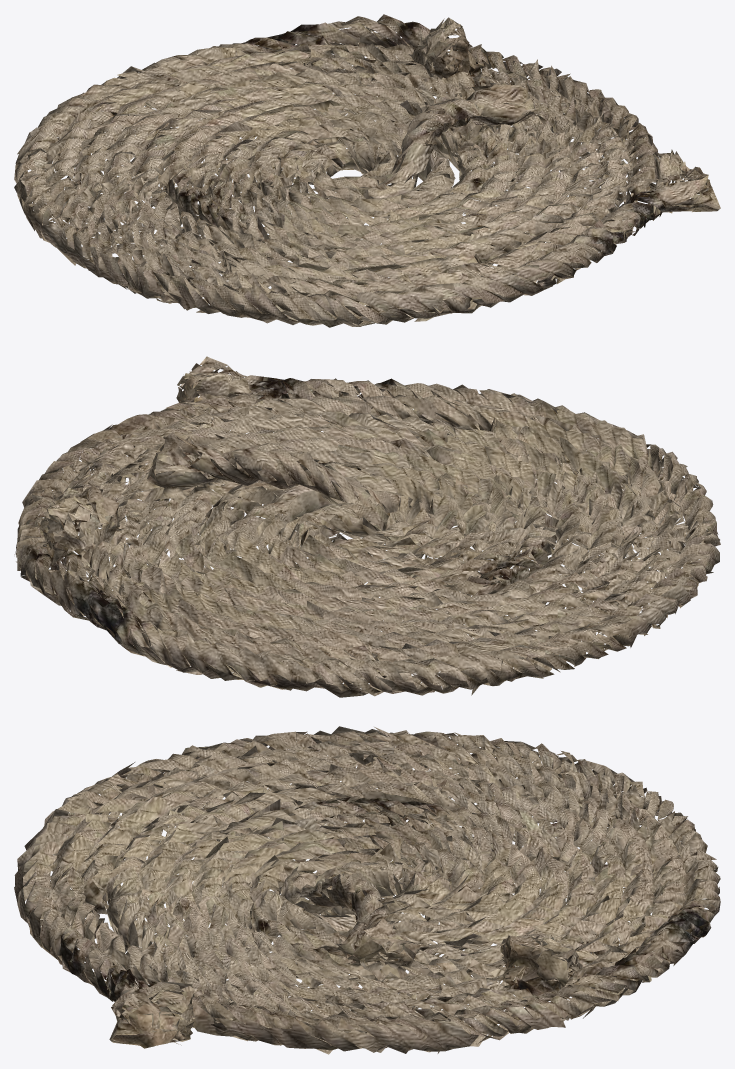
The model's file is rope-coil-large.glb.
The picture shows the model from 3 angles, top to bottom: view 1: azimuth 30°, elevation 25°; view 2: azimuth 150°, elevation 25°; view 3: azimuth 270°, elevation 25°; orthographic projection. The views are drawn at different scales.
Parts seen in each view (by area): view 1: Mesh_0; view 2: Mesh_0; view 3: Mesh_0.
Boxes of the visible parts, x1,y1,x2,y2 form: Mesh_0: (14,14,720,327); Mesh_0: (14,356,720,697); Mesh_0: (14,726,720,1054).
Size of the model in its own units: 1.9 by 0.2491 by 1.88.
1 material, 1 textured.
